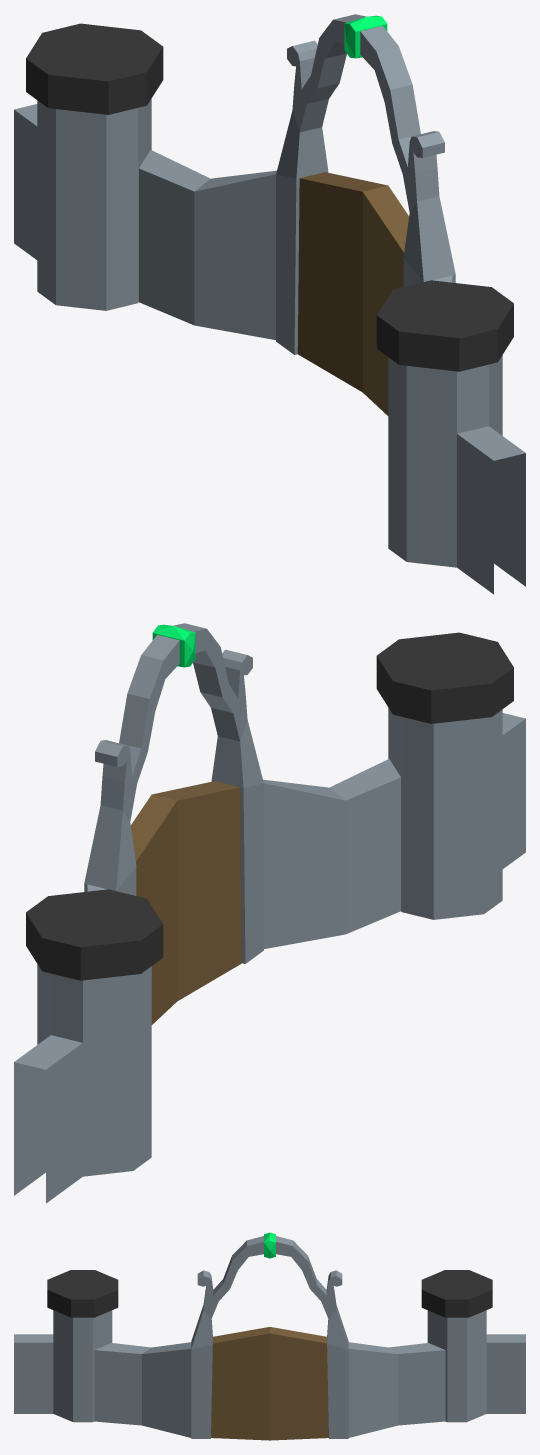
File: paris_gate.glb
The picture shows the model from 3 angles, top to bottom: view 1: azimuth 30°, elevation 25°; view 2: azimuth 150°, elevation 25°; view 3: azimuth 270°, elevation 25°; orthographic projection. The views are drawn at different scales.
Parts seen in each view (by area): view 1: Cube-col; view 2: Cube-col; view 3: Cube-col.
Boxes of the visible parts, left/top/right/bottom form: Cube-col: left=14, top=14, right=525, bottom=594; Cube-col: left=14, top=623, right=525, bottom=1203; Cube-col: left=14, top=1232, right=525, bottom=1440.
Size of the model in its own units: 5.5 by 11.2 by 26.
